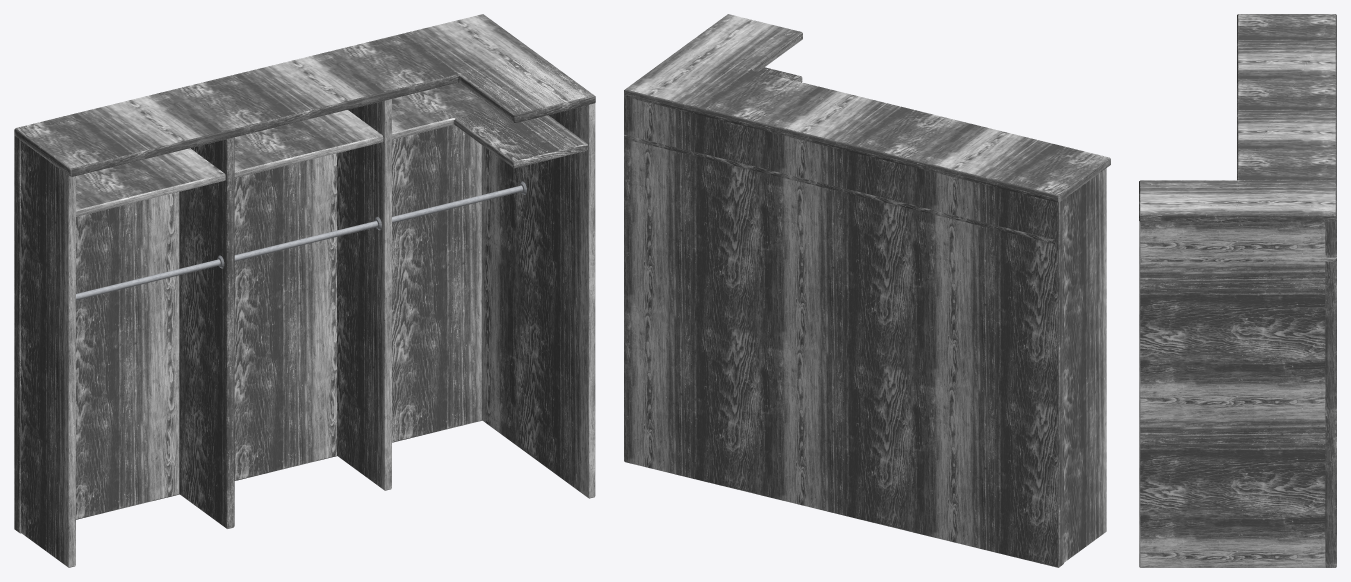
File: SM_Wardrobe_B1.fbx
The picture shows the model from 3 angles, left to right: view 1: azimuth 30°, elevation 25°; view 2: azimuth 150°, elevation 25°; view 3: azimuth 270°, elevation 25°; orthographic projection. The views are drawn at different scales.
Parts seen in each view (by area): view 1: SM_Wardrobe_B1; view 2: SM_Wardrobe_B1; view 3: SM_Wardrobe_B1.
Part boxes in pixels (x1=…): SM_Wardrobe_B1: x1=14, y1=14, x2=595, y2=567; SM_Wardrobe_B1: x1=624, y1=14, x2=1110, y2=567; SM_Wardrobe_B1: x1=1139, y1=14, x2=1336, y2=567.
Size of the model in its own units: 256 by 106 by 209.
2 materials, 2 textured.
